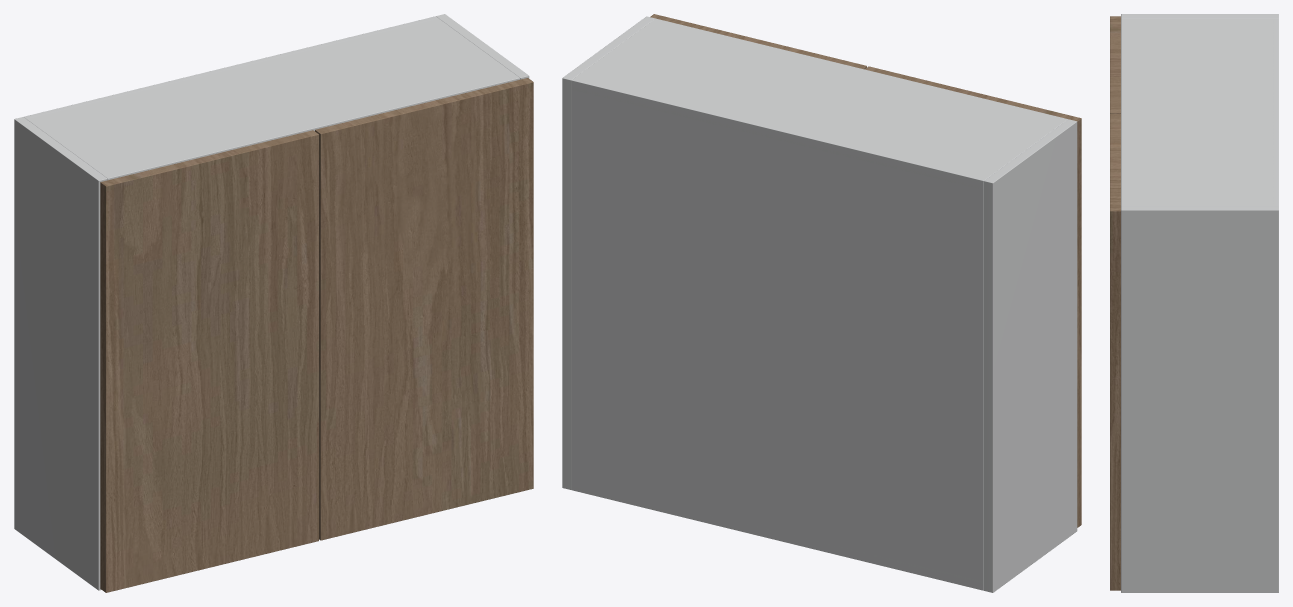
File: oppein-pb-mnw-w3330.glb
The picture shows the model from 3 angles, left to right: view 1: azimuth 30°, elevation 25°; view 2: azimuth 150°, elevation 25°; view 3: azimuth 270°, elevation 25°; orthographic projection. The views are drawn at different scales.
Parts seen in each view (by area): view 1: Door, Door.001, Cabinet side, Cabinet top, Cabinet back, Cabinet side.001; view 2: Cabinet back, Cabinet side, Cabinet top, Cabinet side.001, Door, Door.001; view 3: Cabinet side.001, Cabinet top, Door.001, Cabinet back, Door, Cabinet side.
Boxes of the visible parts, x1=… form: Door: x1=100, y1=130, x2=318, y2=592; Door.001: x1=315, y1=78, x2=533, y2=540; Cabinet side: x1=14, y1=117, x2=107, y2=590; Cabinet top: x1=24, y1=17, x2=519, y2=180; Cabinet back: x1=24, y1=16, x2=438, y2=118; Cabinet side.001: x1=436, y1=14, x2=529, y2=79; Cabinet back: x1=571, y1=78, x2=986, y2=590; Cabinet side: x1=984, y1=119, x2=1077, y2=592; Cabinet top: x1=571, y1=18, x2=1067, y2=189; Cabinet side.001: x1=562, y1=16, x2=655, y2=489; Door: x1=865, y1=66, x2=1081, y2=527; Door.001: x1=650, y1=14, x2=866, y2=69; Cabinet side.001: x1=1121, y1=206, x2=1278, y2=592; Cabinet top: x1=1121, y1=18, x2=1278, y2=206; Door.001: x1=1110, y1=114, x2=1120, y2=590; Cabinet back: x1=1272, y1=18, x2=1278, y2=206; Door: x1=1110, y1=16, x2=1120, y2=113; Cabinet side: x1=1121, y1=14, x2=1278, y2=18.
Bounding box in the file's own units: 0.8382 × 0.762 × 0.3048.
2 materials, 1 textured.
